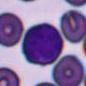L: (22, 23, 64, 65)
